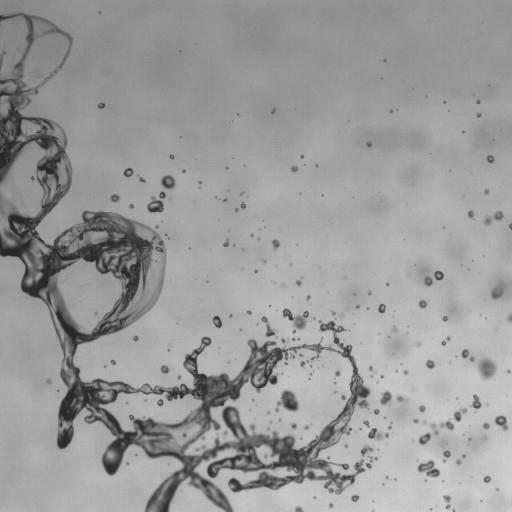droplet: (282, 308, 308, 332), (275, 389, 299, 412), (429, 419, 454, 435), (477, 358, 496, 379), (147, 191, 165, 213), (417, 460, 439, 477), (368, 428, 388, 440), (494, 415, 508, 431), (161, 175, 175, 189), (453, 408, 467, 421), (380, 390, 391, 405), (418, 432, 430, 445), (471, 395, 481, 410), (491, 287, 502, 299), (361, 445, 372, 455), (212, 315, 221, 327), (123, 168, 133, 177), (434, 271, 443, 280), (424, 276, 432, 286), (110, 194, 119, 202), (160, 365, 169, 373), (272, 239, 279, 249), (418, 300, 426, 308), (426, 360, 434, 368), (378, 304, 385, 313), (396, 395, 406, 401), (486, 155, 494, 162), (443, 450, 450, 458), (351, 494, 359, 501), (294, 506, 303, 511), (291, 165, 298, 171), (223, 239, 229, 246), (368, 366, 374, 373), (157, 399, 163, 406), (419, 405, 425, 412), (483, 422, 489, 429), (483, 476, 490, 482), (98, 102, 104, 108), (468, 211, 473, 218), (296, 279, 301, 285), (300, 361, 305, 367), (364, 420, 369, 426), (291, 423, 296, 429), (133, 336, 138, 341), (335, 371, 340, 376), (374, 409, 379, 414), (456, 459, 461, 464), (367, 141, 371, 146), (484, 189, 488, 194), (241, 203, 245, 208), (129, 204, 134, 208), (443, 316, 447, 321), (46, 379, 51, 383), (413, 419, 418, 423), (304, 425, 309, 429), (306, 295, 310, 299), (392, 327, 396, 331), (416, 342, 420, 346), (111, 360, 115, 364), (403, 370, 407, 374), (329, 503, 333, 507), (292, 338, 297, 341), (272, 109, 275, 113), (477, 113, 480, 117), (170, 154, 173, 158), (247, 310, 251, 313), (331, 311, 334, 315), (339, 313, 343, 316), (177, 375, 181, 378), (509, 223, 511, 228), (477, 100, 480, 103), (223, 198, 226, 201), (262, 260, 265, 263), (356, 305, 359, 308), (264, 454, 267, 457), (462, 454, 465, 457), (389, 424, 391, 428), (300, 155, 303, 157), (182, 170, 185, 172), (235, 208, 237, 211), (156, 225, 158, 228), (250, 234, 253, 236), (254, 270, 257, 272), (368, 292, 371, 294), (300, 353, 302, 356), (507, 370, 510, 372), (267, 411, 269, 414), (345, 444, 347, 447), (390, 110, 392, 112), (386, 283, 388, 285), (371, 375, 373, 377), (381, 375, 383, 377), (279, 419, 281, 421), (443, 460, 445, 462)
ligament: (0, 14, 377, 511), (261, 316, 275, 336), (484, 211, 503, 225), (461, 349, 474, 361), (443, 494, 450, 509), (0, 51, 5, 70), (441, 336, 450, 345), (138, 176, 145, 182), (507, 314, 511, 323), (371, 510, 374, 511)
